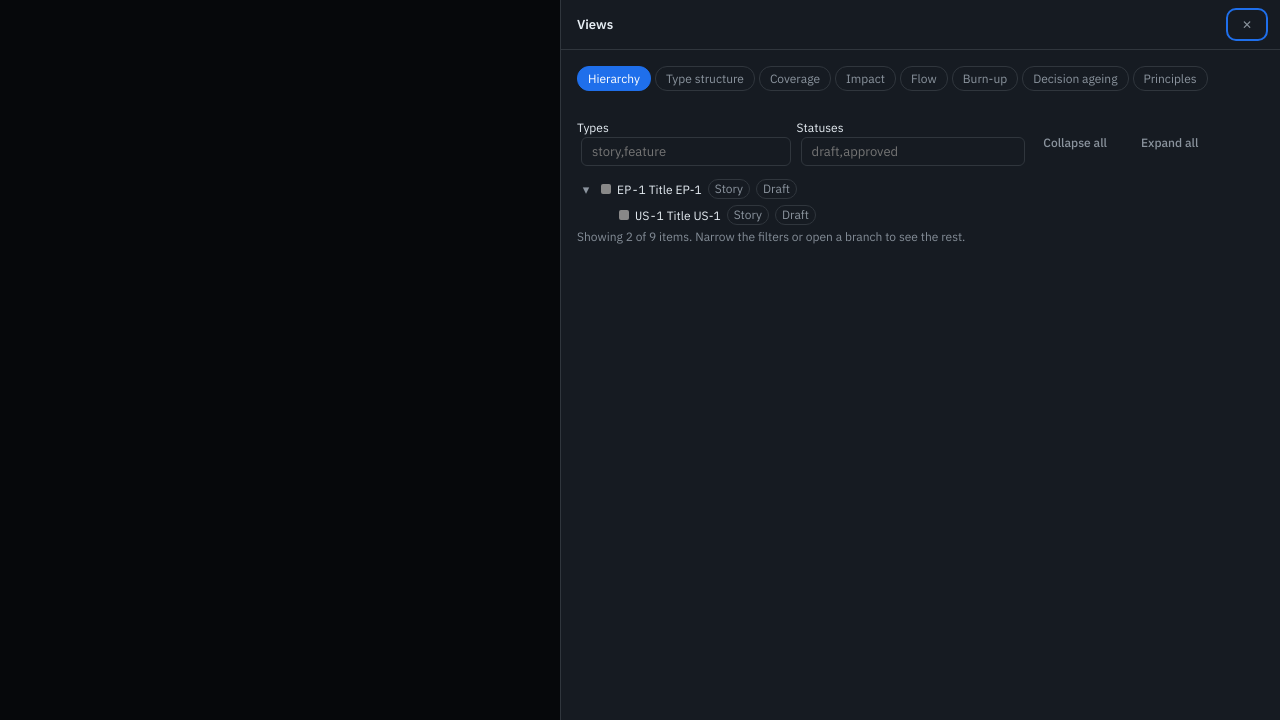
Test case: Views panel › collapses a branch of the hierarchy and says when the tree was cut
Expected: the number of list items is 2, [577,179,797,199]; [619,205,816,225]
Expected: the message shows "Showing 2 of 9", [577,229,965,244]
Click the button named "Collapse EP-1" at (586, 189), box [577,180,595,198]
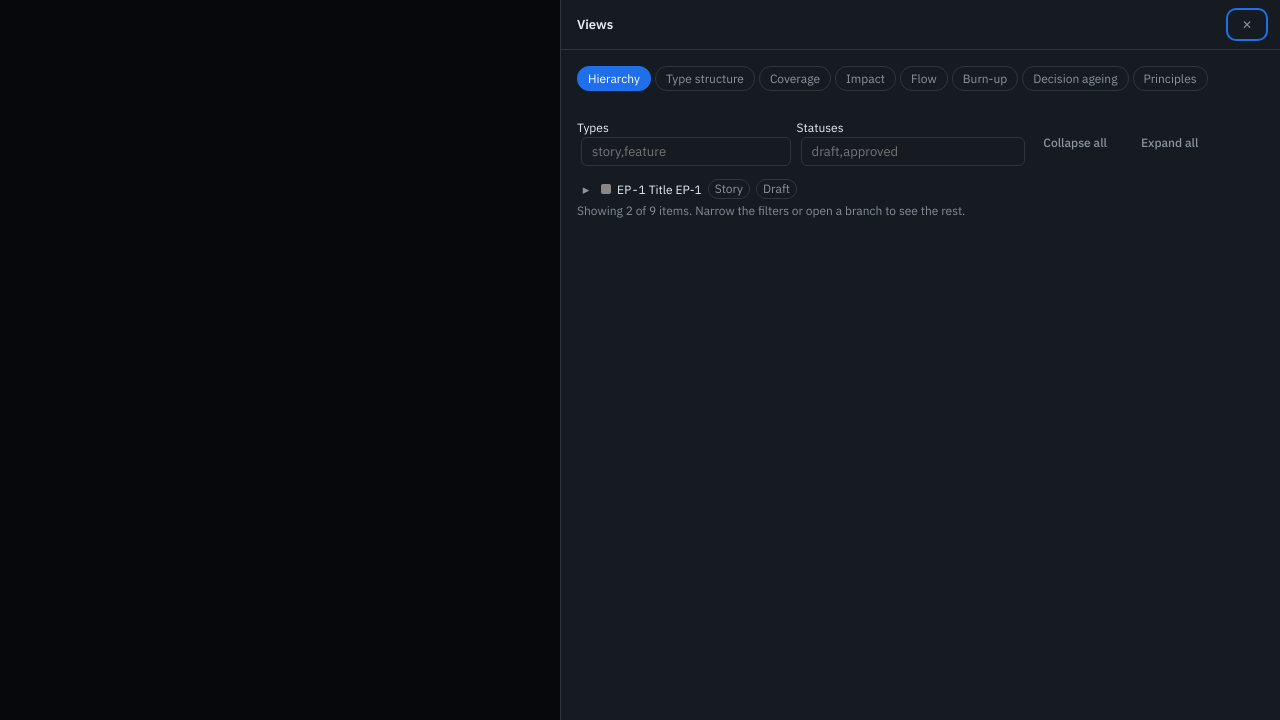
Expected: the number of list items is 1, [577,179,797,199]
Click the button named "Expand EP-1" at (586, 189), box [577,180,595,198]
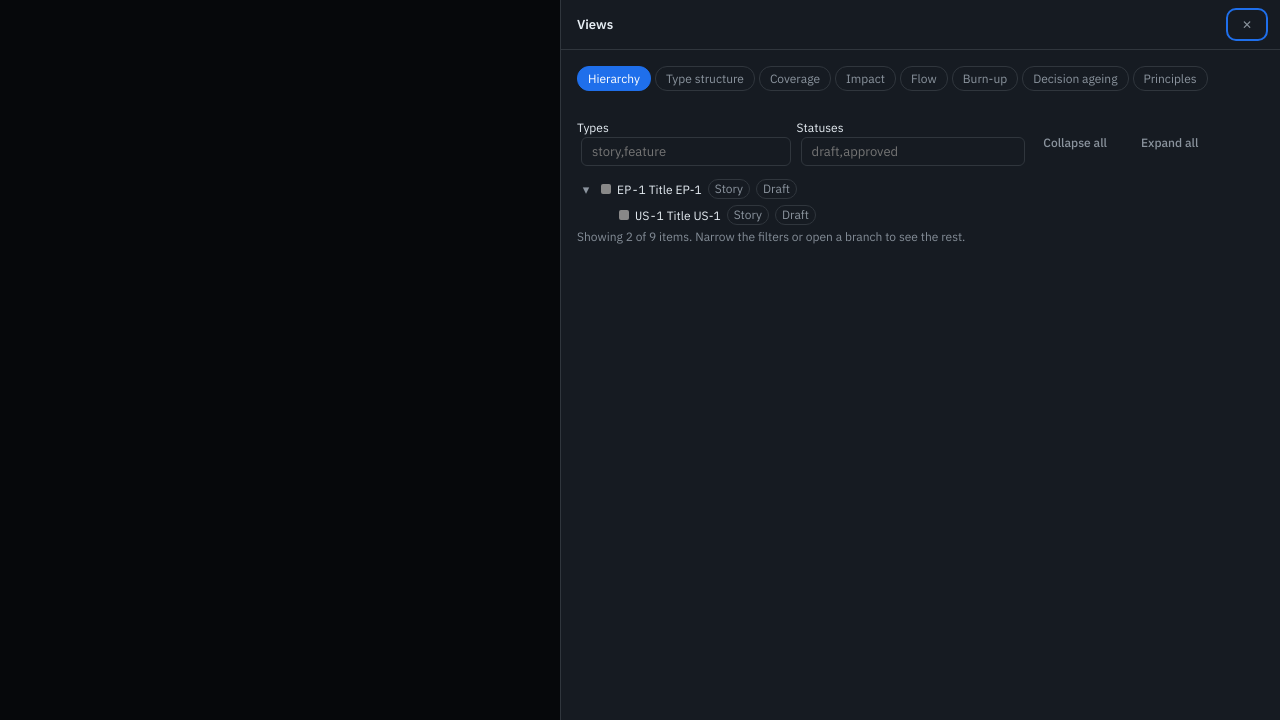
Expected: the number of list items is 2, [577,179,797,199]; [619,205,816,225]
